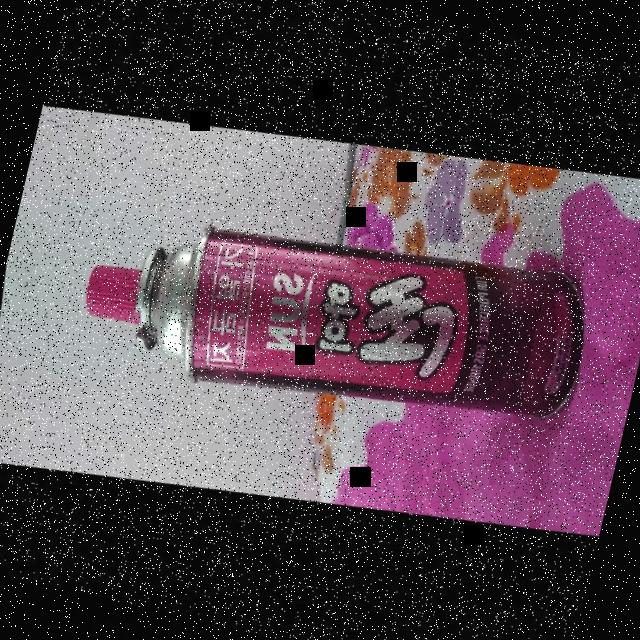chemical_spray_can: (36, 135, 629, 519)
